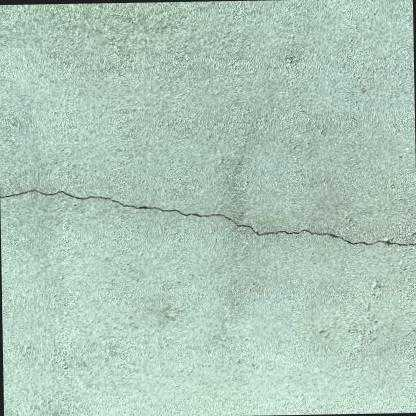crack: (0, 188, 416, 245)
